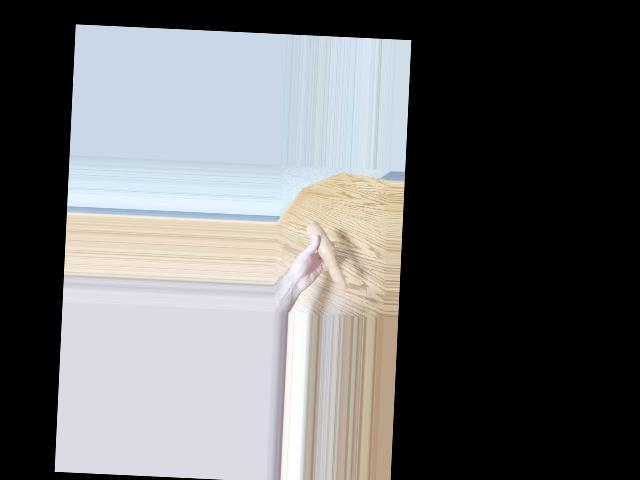sweet_potato: (306, 212, 345, 289)
